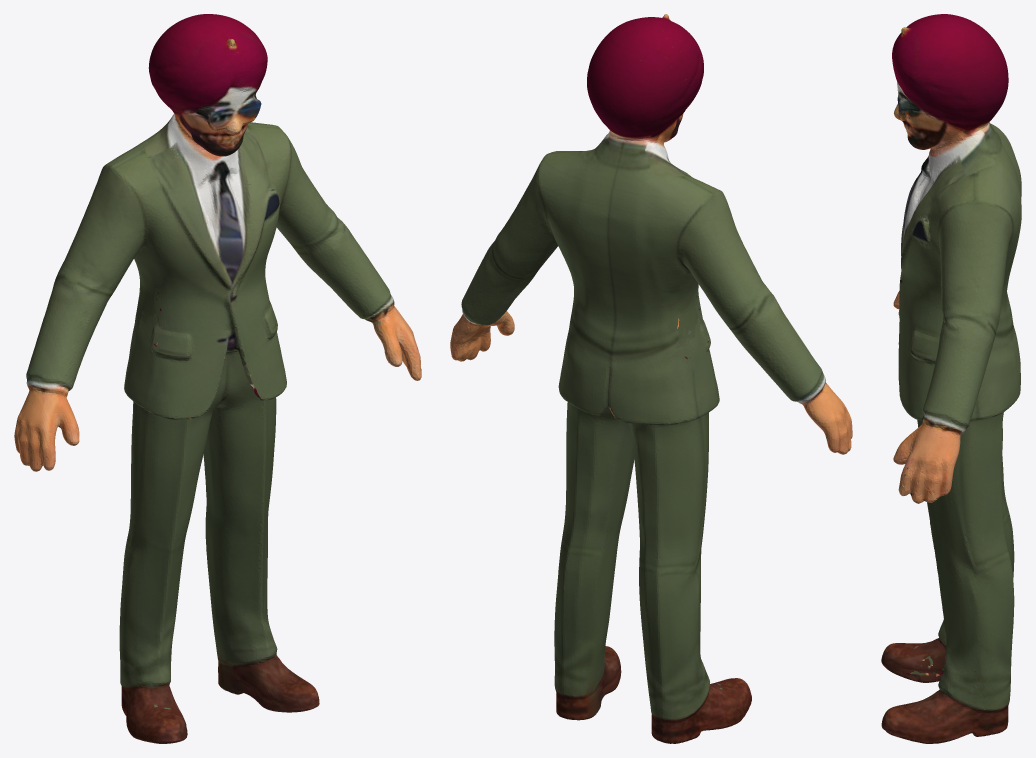
File: body_f_cm.glb
The picture shows the model from 3 angles, left to right: view 1: azimuth 30°, elevation 25°; view 2: azimuth 150°, elevation 25°; view 3: azimuth 270°, elevation 25°; orthographic projection.
Parts seen in each view (by area): view 1: geometry_0; view 2: geometry_0; view 3: geometry_0.
Boxes of the visible parts, left/top/right/bottom form: geometry_0: left=14, top=14, right=421, bottom=743; geometry_0: left=450, top=14, right=852, bottom=743; geometry_0: left=881, top=14, right=1021, bottom=743.
Size of the model in its own units: 1.19 by 1.99 by 0.3719.
Materials: 1 (1 with a texture image).
